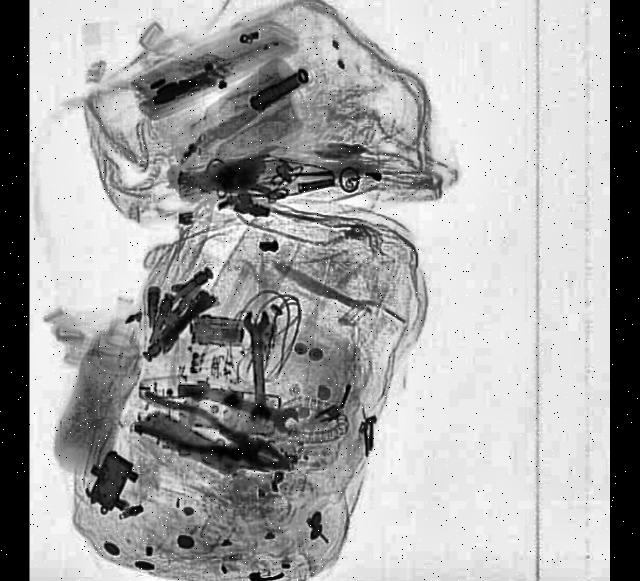Pliers: (133, 388, 296, 493)
Wrench: (192, 374, 303, 442), (244, 314, 277, 422)
